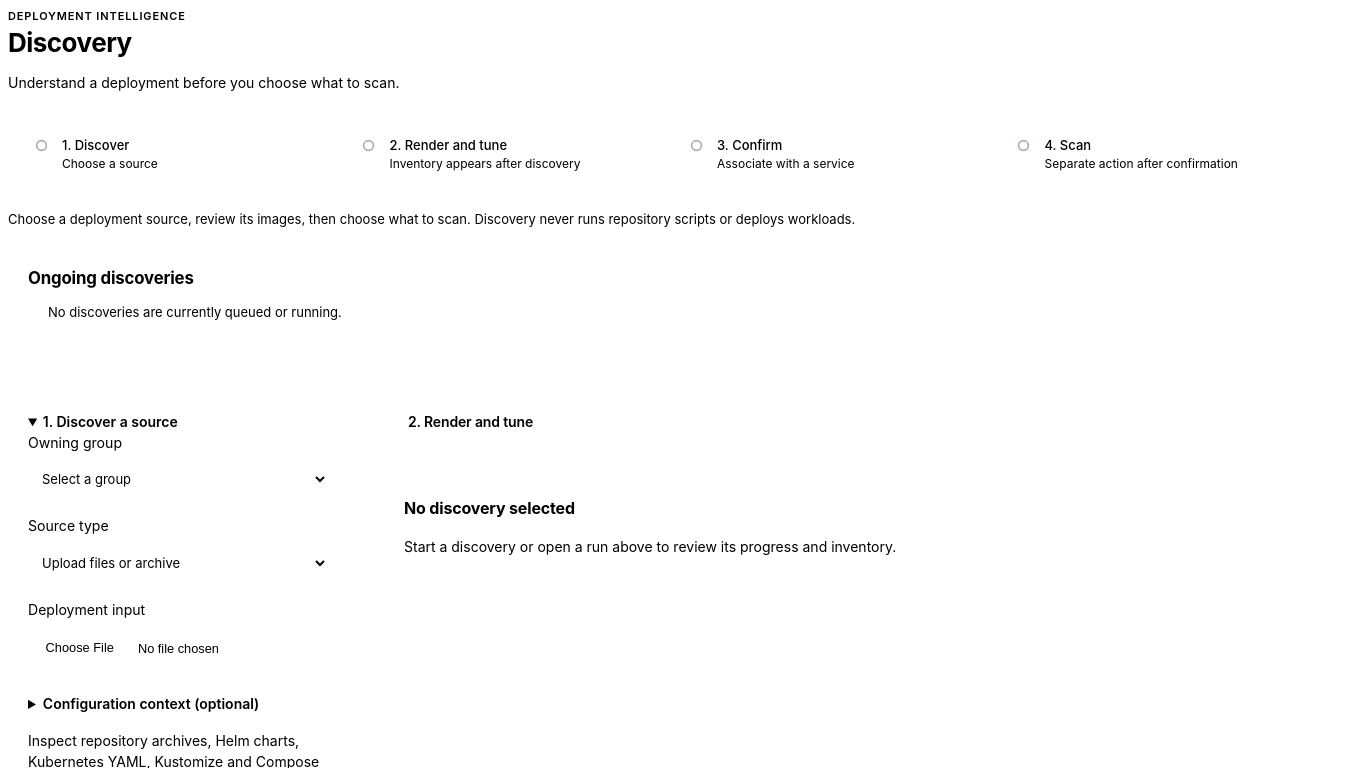
Test: submits a public GitLab repository and shows its resolved commit
Later steps or results of the test are not shown.
Select "Platform" in the dropdown labelled "Owning group" at (178, 479), box [28, 459, 328, 499]
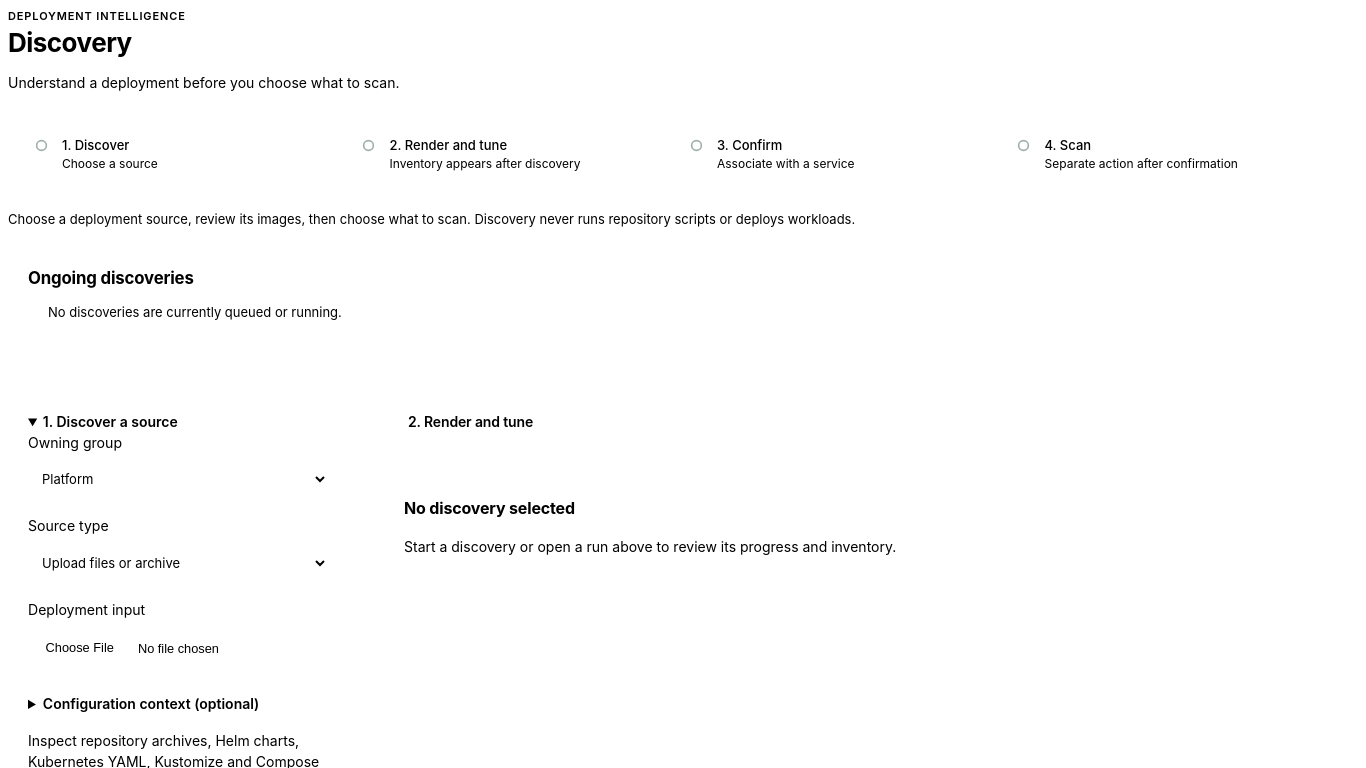
Select "GitLab repository" in the dropdown labelled "Source type" at (178, 563), box [28, 543, 328, 583]
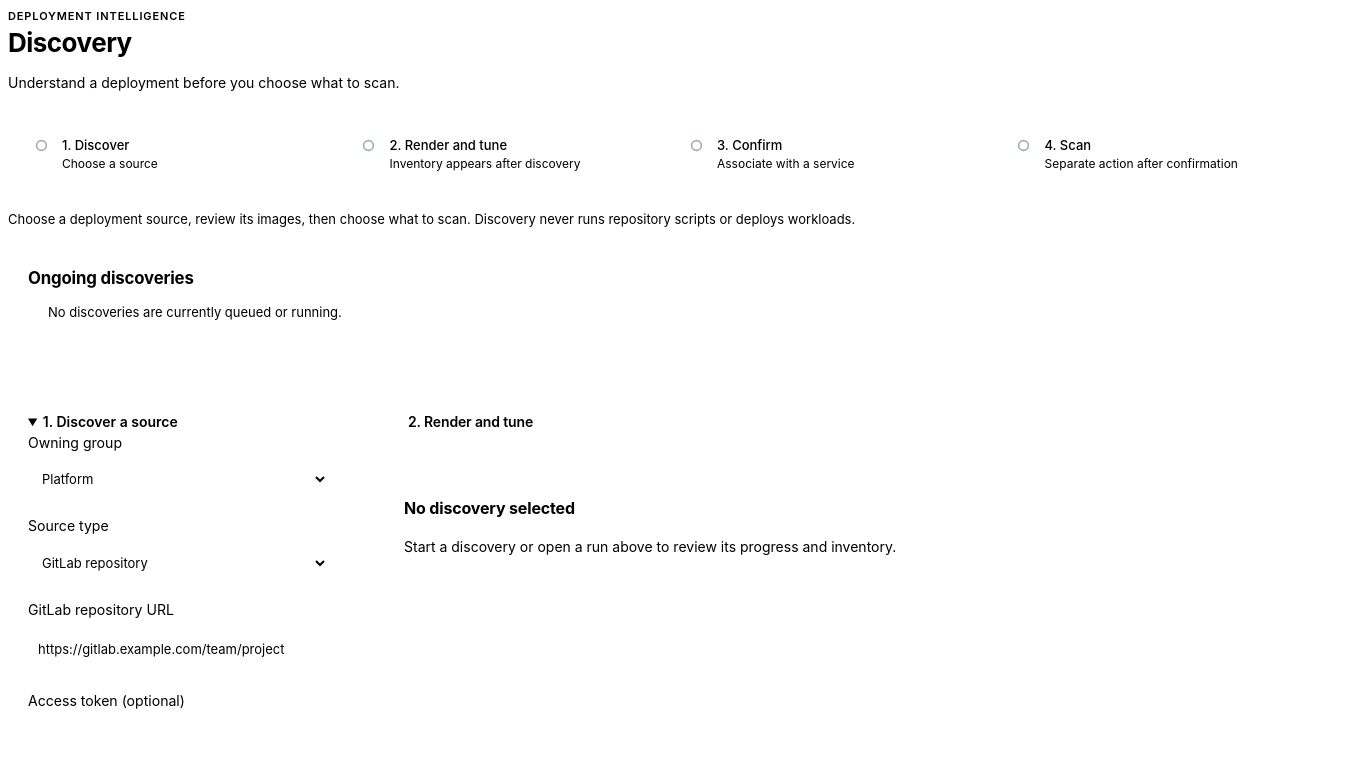
Type "https://gitlab.example.com/team/platform/payments" into the field labelled "GitLab repository URL" at (188, 650), box [28, 626, 348, 674]
(page scrolled)
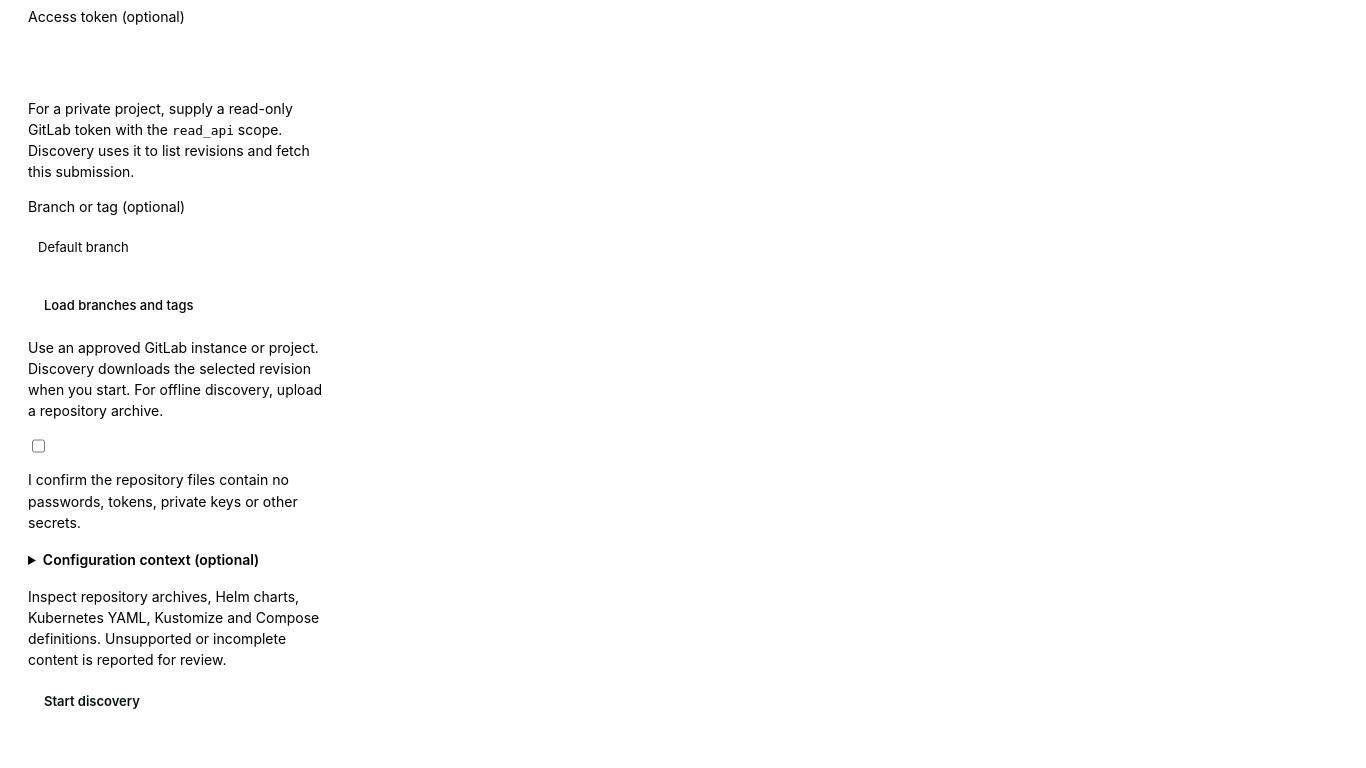
Click the button "Start discovery" at (92, 702), box [28, 684, 156, 720]
Click the checkbox labelled "I confirm the repository files" at (38, 446), box [32, 438, 45, 454]
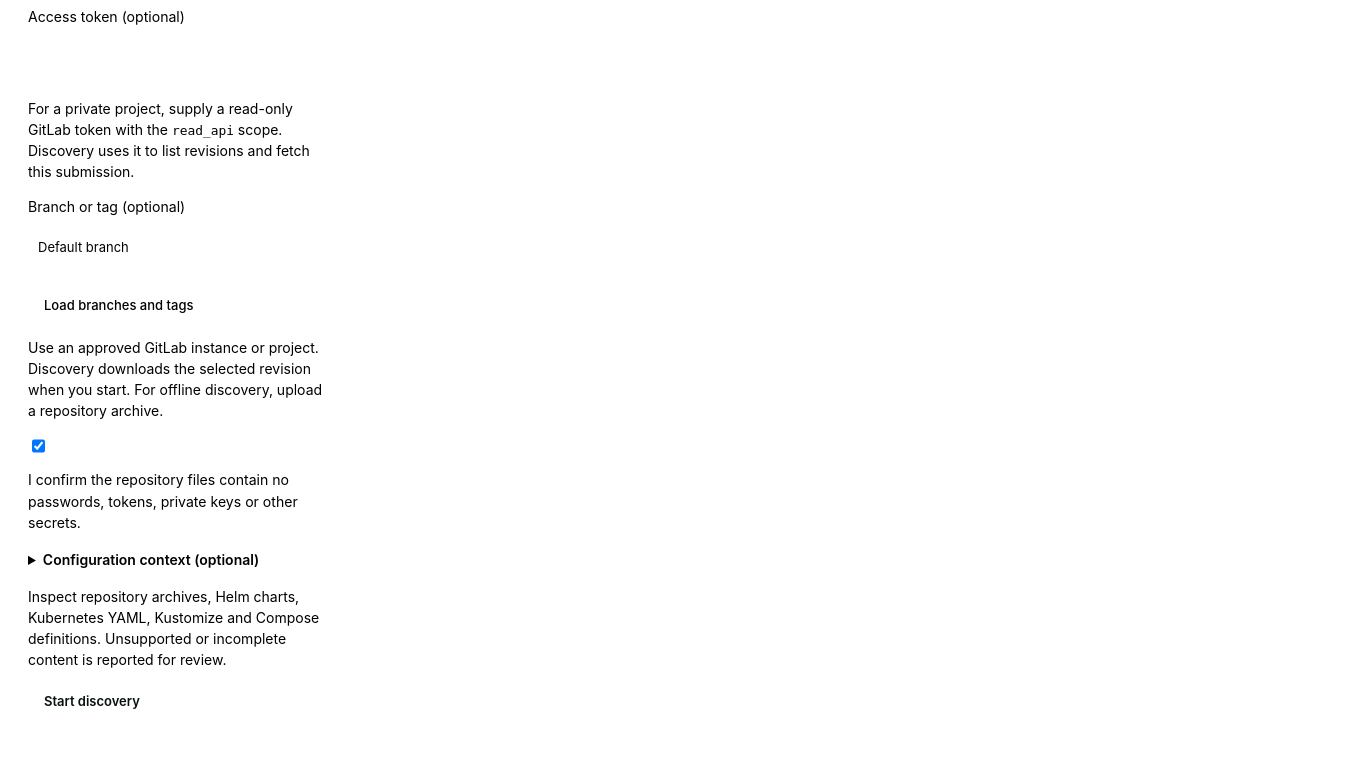
Click the button "Start discovery" at (92, 702), box [28, 684, 156, 720]
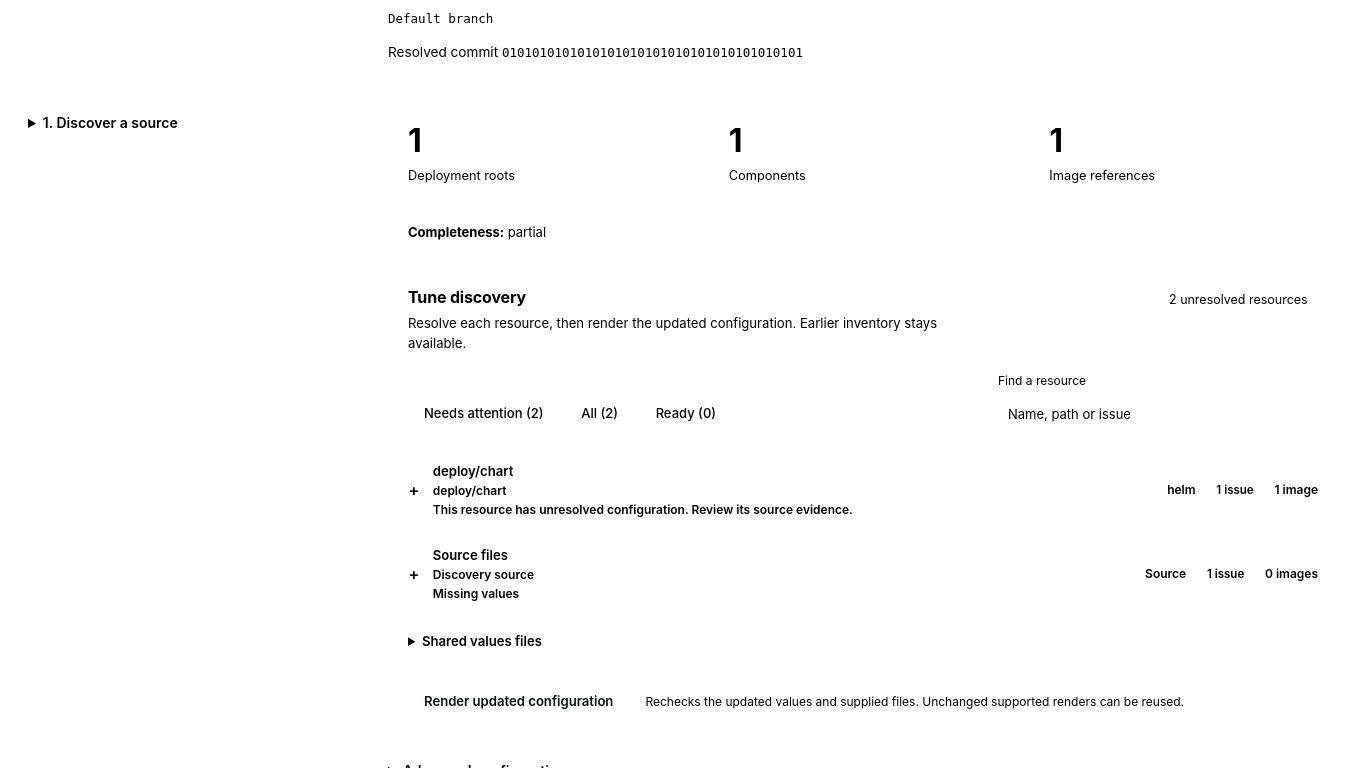
Expected: the element named "Access token (optional)" is empty, [43, 114, 178, 131]
Now the text "Default branch" is shown, box [388, 10, 493, 26]
